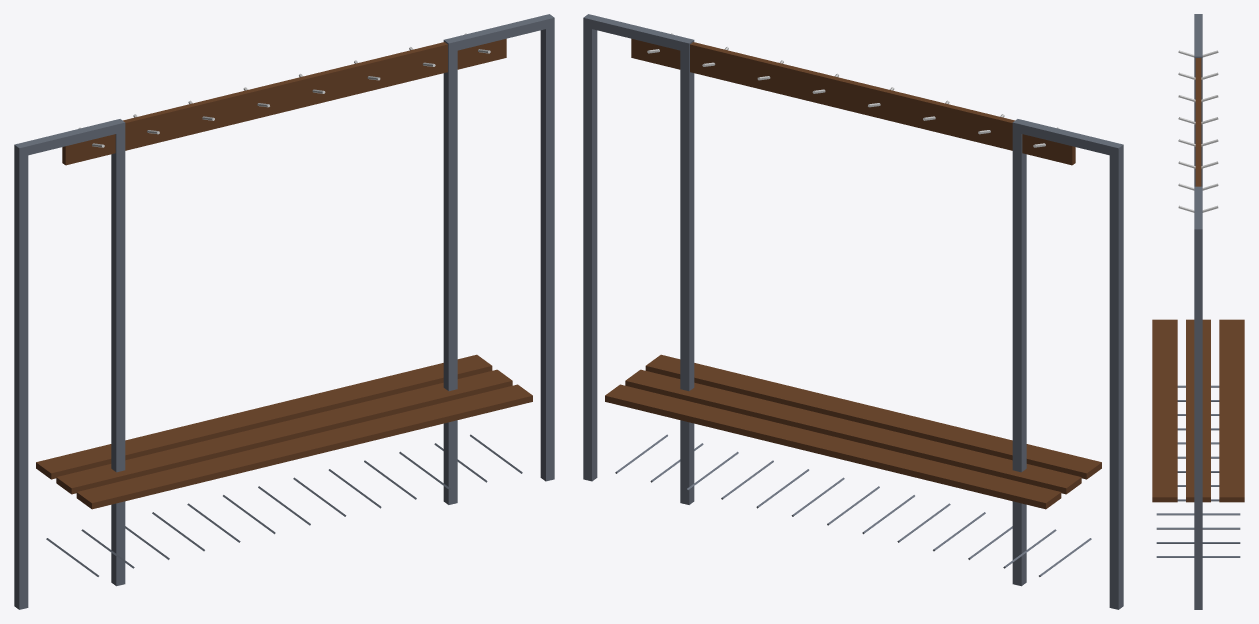
File: school.cloak.bench.glb
3 views of the same model, side by side, from view 1: azimuth 30°, elevation 25°; view 2: azimuth 150°, elevation 25°; view 3: azimuth 270°, elevation 25° (orthographic). The views are drawn at different scales.
Parts seen in each view (by area): view 1: main__hardwood, main__steel_painted; view 2: main__hardwood, main__steel_painted; view 3: main__hardwood, main__steel_painted, main__steel_stainless.
Boxes of the visible parts, x1,y1,x2,y2 form: main__hardwood: [36, 38, 532, 509]; main__steel_painted: [14, 14, 554, 609]; main__hardwood: [605, 38, 1101, 509]; main__steel_painted: [583, 14, 1123, 609]; main__hardwood: [1152, 58, 1244, 502]; main__steel_painted: [1156, 14, 1240, 609]; main__steel_stainless: [1178, 50, 1218, 212].
Size of the model in its own units: 1.82 by 1.5 by 0.33.
